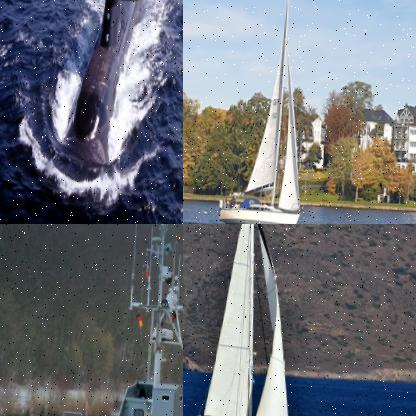Patrol Boat: (9, 224, 182, 415)
Sails Boat: (183, 224, 321, 415), (217, 0, 313, 223)
Submarine: (60, 0, 154, 169)
